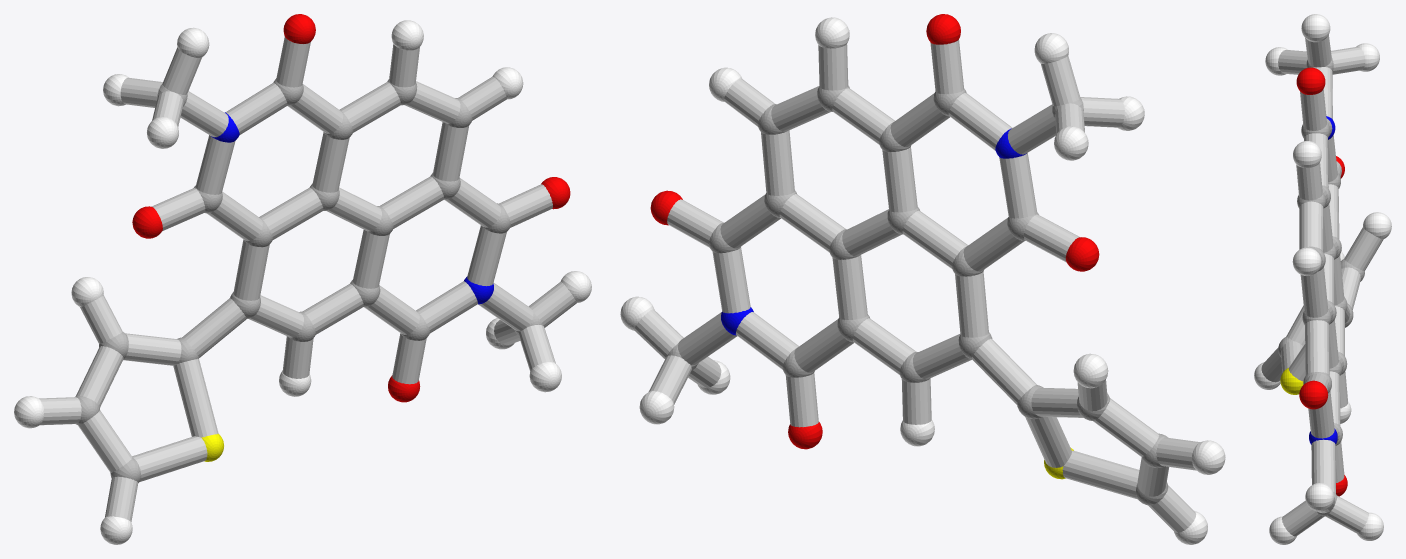
Rendered from Dimethyl_Naphthalene_Dicarboximide_Phi_20_Theta_30_Thiophene.glb.
3 renders of one model, left to right at view 1: azimuth 30°, elevation 25°; view 2: azimuth 150°, elevation 25°; view 3: azimuth 270°, elevation 25°, orthographic. The views are drawn at different scales.
Visible parts, largest first — view 1: grp14119, grp7241, grp1, grp12309, grp11585; view 2: grp14119, grp7241, grp1, grp12309, grp11585; view 3: grp14119, grp7241, grp1, grp12309, grp13757, grp11585.
Part boxes in pixels (bbox=[...]): grp14119: bbox=[39, 36, 576, 521]; grp7241: bbox=[14, 20, 591, 544]; grp1: bbox=[75, 78, 542, 482]; grp12309: bbox=[132, 14, 570, 402]; grp11585: bbox=[211, 112, 493, 304]; grp14119: bbox=[634, 39, 1199, 532]; grp7241: bbox=[620, 17, 1225, 544]; grp1: bbox=[666, 85, 1168, 505]; grp12309: bbox=[650, 14, 1099, 449]; grp11585: bbox=[721, 128, 1026, 335]; grp14119: bbox=[1261, 35, 1383, 536]; grp7241: bbox=[1254, 14, 1391, 544]; grp1: bbox=[1278, 57, 1364, 516]; grp12309: bbox=[1296, 67, 1347, 496]; grp13757: bbox=[1280, 368, 1303, 394]; grp11585: bbox=[1309, 116, 1337, 444].
Size of the model in its own units: 12.12 by 9.59 by 2.86.
